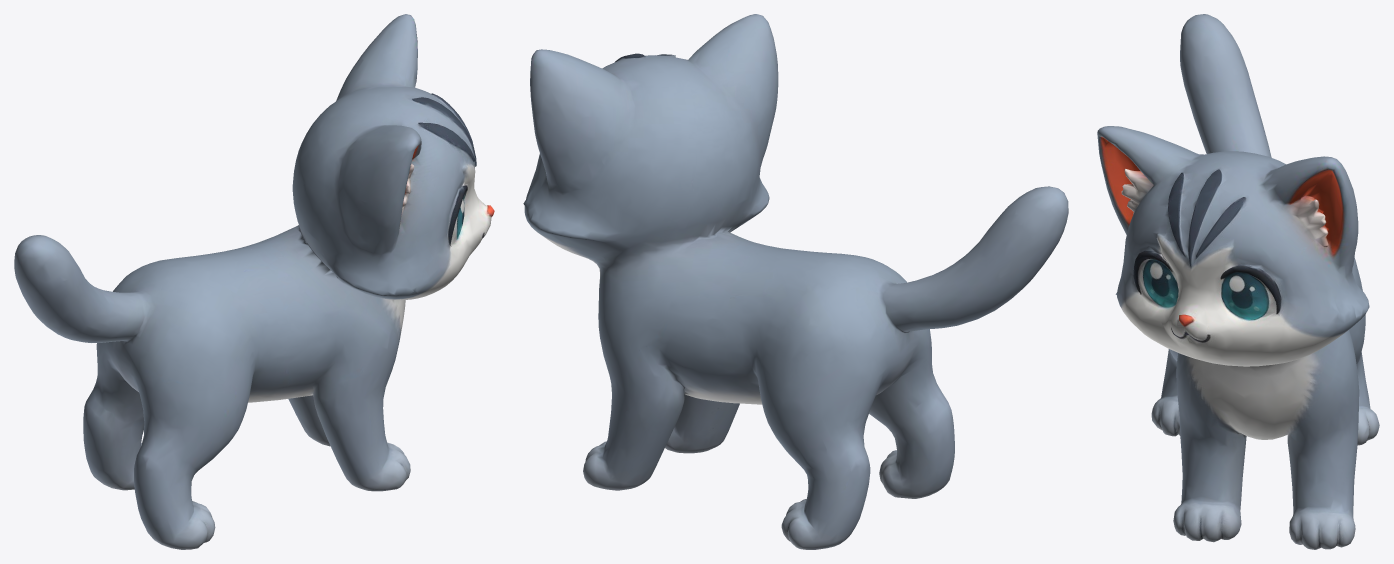
Rendered from wen-4.glb.
3 renders of one model, left to right at view 1: azimuth 30°, elevation 25°; view 2: azimuth 150°, elevation 25°; view 3: azimuth 270°, elevation 25°, orthographic. The views are drawn at different scales.
Visible parts, largest first — view 1: tripo_node_4d6ccac7-1054-4a8b-8b77-85756e7afac2; view 2: tripo_node_4d6ccac7-1054-4a8b-8b77-85756e7afac2; view 3: tripo_node_4d6ccac7-1054-4a8b-8b77-85756e7afac2.
Part boxes in pixels (box(x1,y1,x2,y2)): tripo_node_4d6ccac7-1054-4a8b-8b77-85756e7afac2: box(14, 14, 494, 549); tripo_node_4d6ccac7-1054-4a8b-8b77-85756e7afac2: box(523, 14, 1068, 549); tripo_node_4d6ccac7-1054-4a8b-8b77-85756e7afac2: box(1097, 14, 1379, 549).
Bounding box in the file's own units: 1.23 × 1 × 0.611.
Materials: 1 (1 with a texture image).
